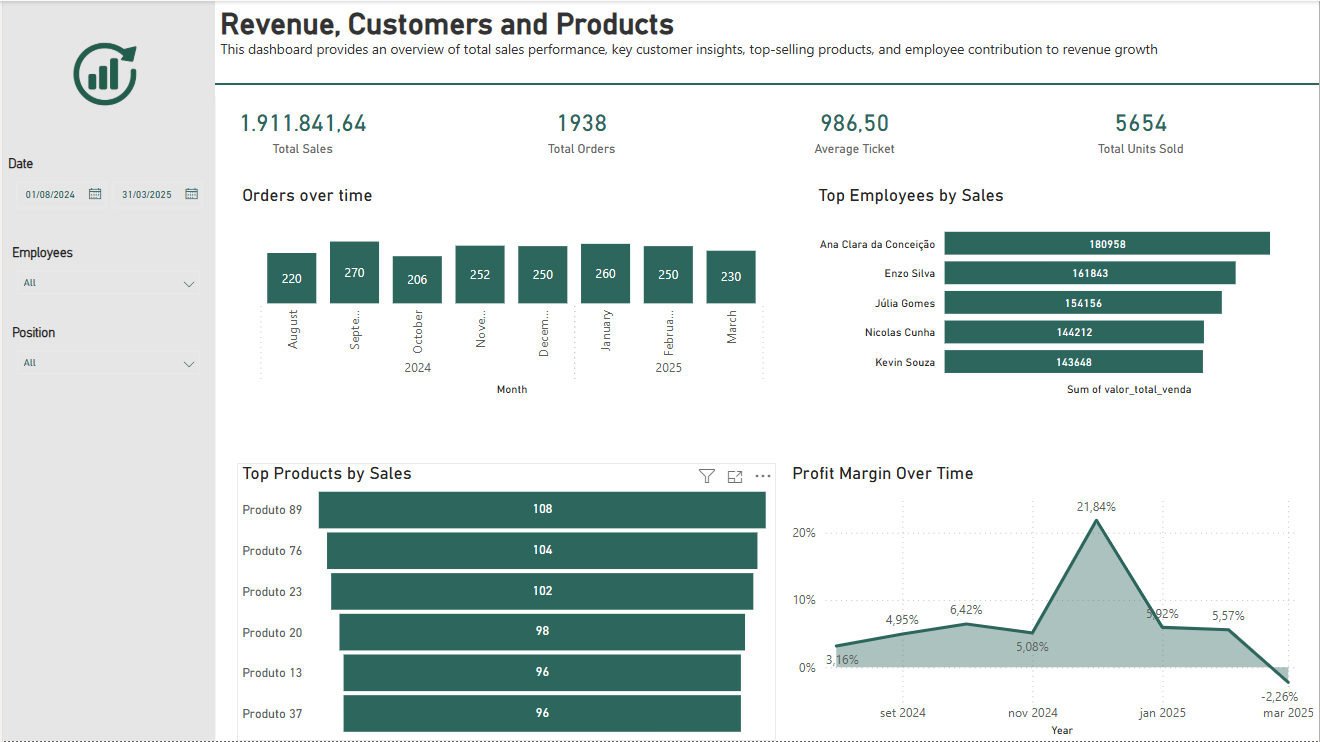

This screenshot's page, from the dashboard's own definition file:
{"tool":"powerbi","page":{"name":"KPI","canvas":[1280,720],"ordinal":0},"visuals":[{"type":"lineStackedColumnComboChart","title":"Orders over time","fields":{"Category":["Vendas.data_venda.Variation.Date Hierarchy.Year","Vendas.data_venda.Variation.Date Hierarchy.Month"],"Y":["CountNonNull(Vendas.id_venda)"]},"box":[227.6,179,535,209.1],"z":0},{"type":"card","fields":{"Values":["Sum(Vendas.valor_total_venda)"]},"box":[206.2,80.7,170.2,87.5],"z":1},{"type":"card","fields":{"Values":["Sum(Vendas.quantidade_item)"]},"box":[1021.3,80.7,170.2,87.5],"z":2},{"type":"card","fields":{"Values":["Vendas.Average Ticket"]},"box":[743.1,80.7,170.2,87.5],"z":3},{"type":"card","fields":{"Values":["Vendas.Total Orders"]},"box":[477.6,80.7,170.2,87.5],"z":4},{"type":"barChart","title":"Top Employees by Sales","fields":{"Category":["Vendas.nome_funcionario"],"Y":["Sum(Vendas.valor_total_venda)"]},"box":[787.8,179,492.2,209.1],"z":5},{"type":"shape","box":[0,0,206.7,1000],"z":6},{"type":"textbox","box":[206.2,0,941.5,93.4],"z":7},{"type":"areaChart","title":"Profit Margin Over Time","fields":{"Y":["Vendas.Profit Margin"],"Category":["Vendas.data_venda.Variation.Date Hierarchy.Year","Vendas.data_venda.Variation.Date Hierarchy.Month"]},"box":[762.6,449.4,517.4,270.4],"z":9},{"type":"funnel","title":"Top Products by Sales","fields":{"Category":["Vendas.nome_produto"],"Y":["Sum(Vendas.quantidade_item)"]},"box":[227.6,449.4,524.3,270.4],"z":10},{"type":"slicer","title":"Date","fields":{"Values":["Vendas.data_venda"]},"box":[0,150.8,206.2,56.4],"z":11},{"type":"slicer","title":"Employees","fields":{"Values":["Vendas.nome_funcionario"]},"box":[3.9,237.3,198.4,55.4],"z":12},{"type":"slicer","title":"Position","fields":{"Values":["Vendas.cargo"]},"box":[3.9,315.1,198.4,55.4],"z":13},{"type":"image","box":[0,0,202.3,144],"z":14},{"type":"shape","box":[206.2,53.5,1073.8,54.5],"z":15}]}

Visuals, with their boxes in screenshot pixels (x1, y1, x2, y2), scaled from the page's 1280x720 canvas onto the 1320x742 screenshot:
"Orders over time" lineStackedColumnComboChart: <box>235,184,786,400</box>
card - Sum(Vendas.valor_total_venda): <box>213,83,388,173</box>
card - Sum(Vendas.quantidade_item): <box>1053,83,1229,173</box>
card - Vendas.Average Ticket: <box>766,83,942,173</box>
card - Vendas.Total Orders: <box>493,83,668,173</box>
"Top Employees by Sales" barChart: <box>812,184,1319,400</box>
shape: <box>0,0,213,741</box>
textbox: <box>213,0,1184,96</box>
"Profit Margin Over Time" areaChart: <box>786,463,1319,741</box>
"Top Products by Sales" funnel: <box>235,463,775,741</box>
"Date" slicer: <box>0,155,213,214</box>
"Employees" slicer: <box>4,245,209,302</box>
"Position" slicer: <box>4,325,209,382</box>
image: <box>0,0,209,148</box>
shape: <box>213,55,1319,111</box>
